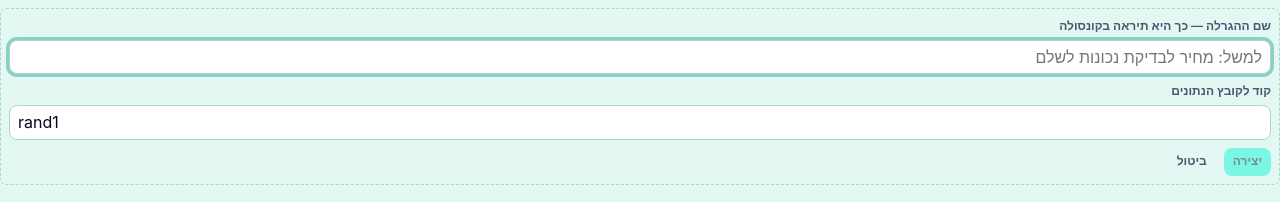
DefineForm › will not create anything until the name has been written
Expected: the button "יצירה" is disabled, 1224,148 -> 1271,176
Type "מחיר לניסוי" into the field labelled "שם ההגרלה — כך היא תיראה בקונסולה" at (640, 57), box 9,40 -> 1271,74
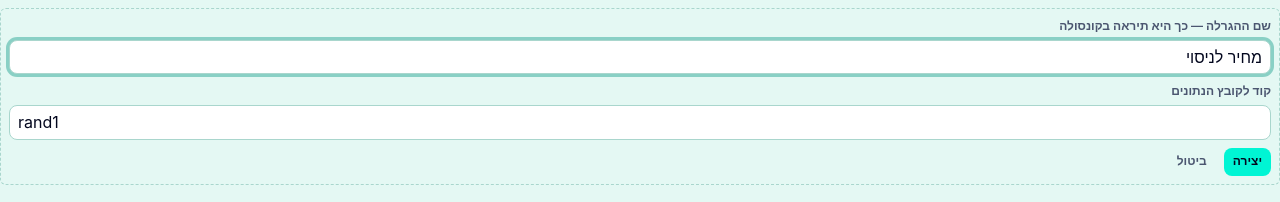
Expected: the button "יצירה" is enabled, 1224,148 -> 1271,176
